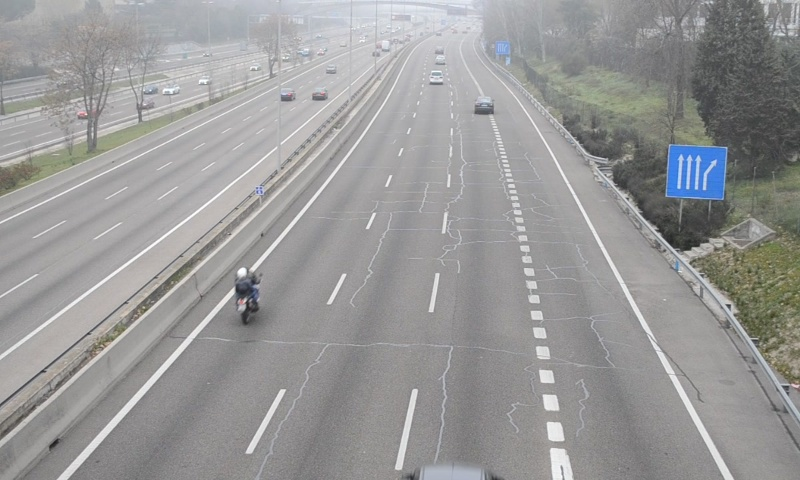car: (473, 95, 494, 114), (428, 70, 444, 86)
motorcycle: (233, 266, 259, 324)
